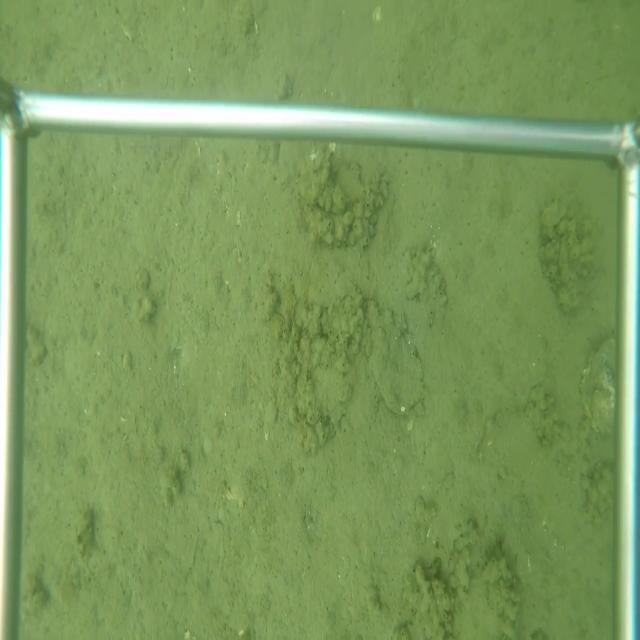Oyster-Indeterminate: (363, 294, 428, 423), (573, 328, 616, 447)
